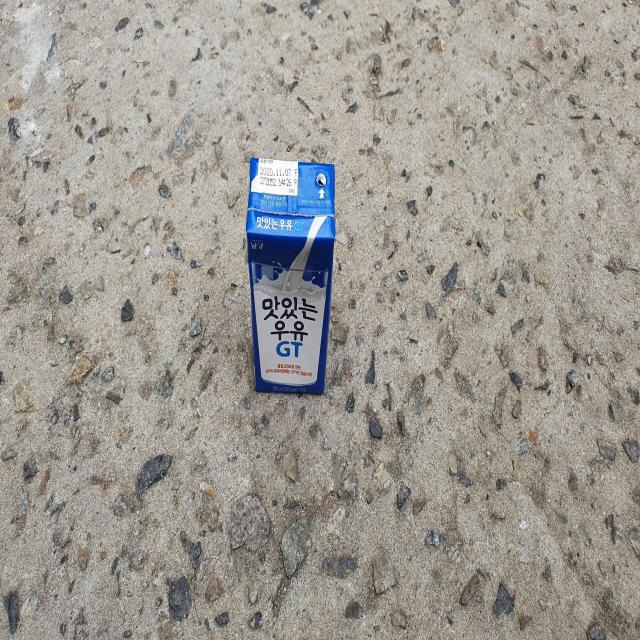paperpack: (246, 157, 336, 393)
